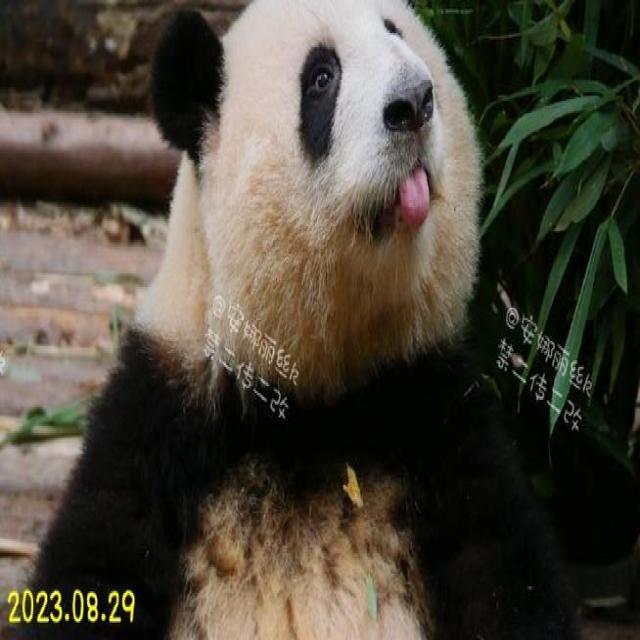panda: (94, 4, 558, 606)
